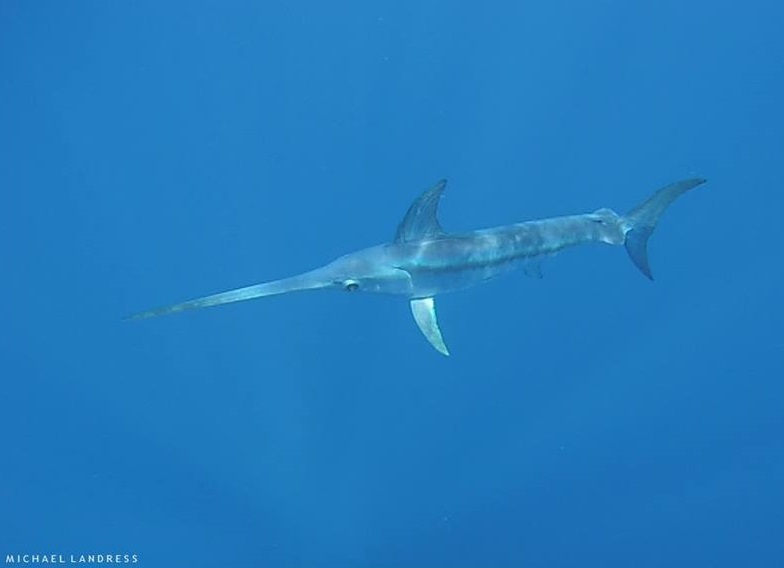swordfish: (125, 160, 714, 376)
